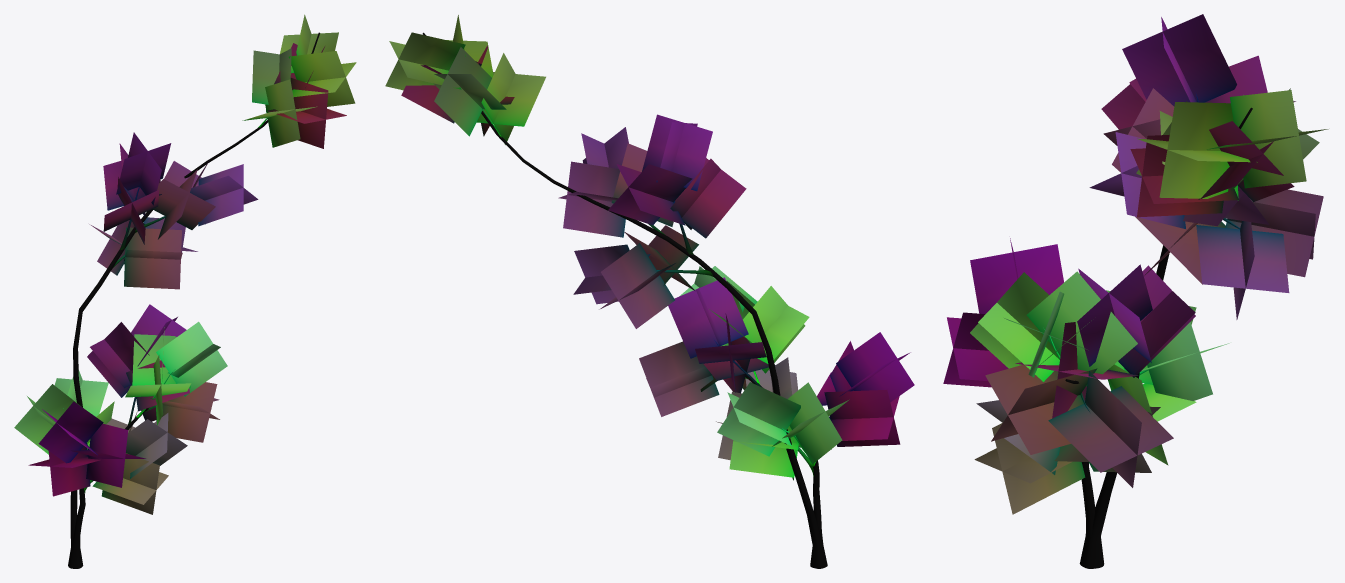
Rendered from URP_P5_Tree_10_LOD_1.fbx.
3 views of the same model, side by side, from view 1: azimuth 30°, elevation 25°; view 2: azimuth 150°, elevation 25°; view 3: azimuth 270°, elevation 25° (orthographic). The views are drawn at different scales.
Visible parts, largest first — view 1: Tree_10_LOD_1; view 2: Tree_10_LOD_1; view 3: Tree_10_LOD_1.
Boxes of the visible parts, left/top/right/bottom form: Tree_10_LOD_1: left=14, top=14, right=356, bottom=568; Tree_10_LOD_1: left=385, top=15, right=914, bottom=568; Tree_10_LOD_1: left=943, top=14, right=1328, bottom=568.
Bounding box in the file's own units: 626 × 689 × 344.
